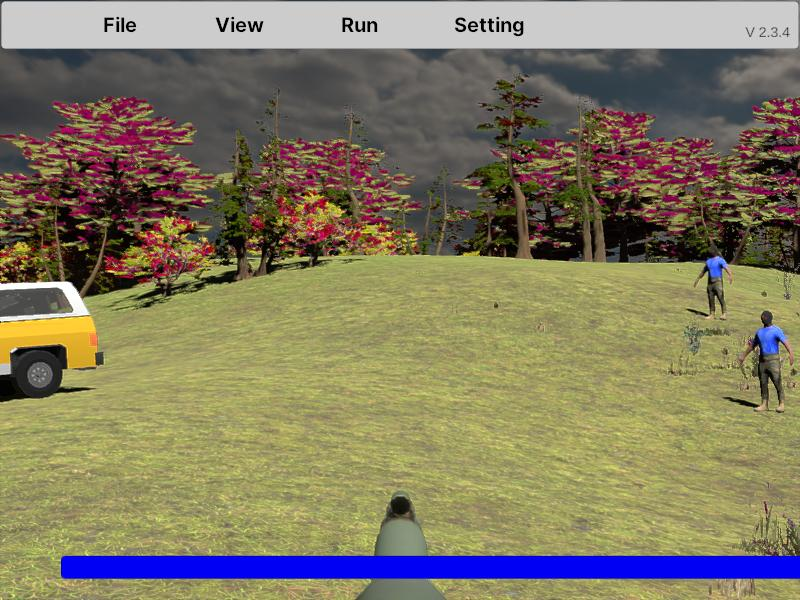Human: (741, 310, 793, 413), (695, 244, 733, 321)
car: (0, 281, 103, 404)
